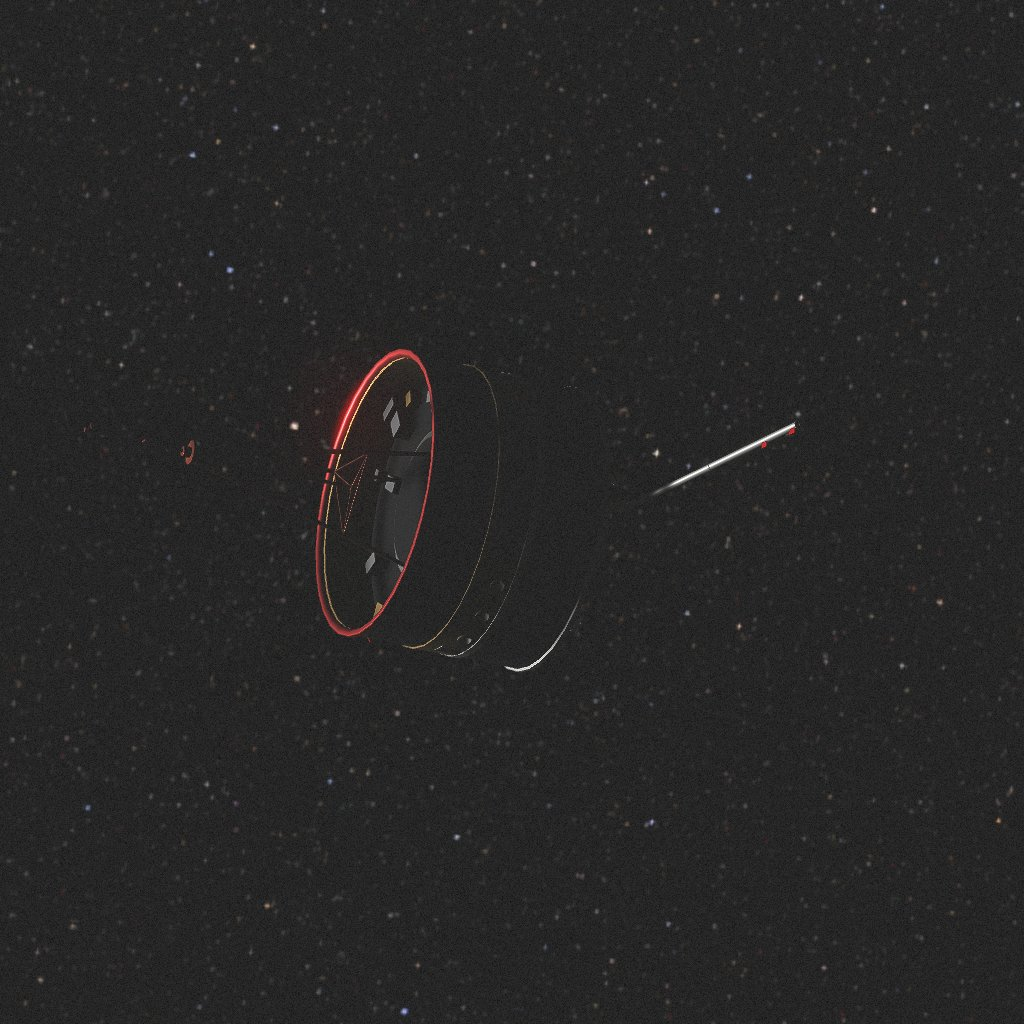double_star: (84, 349, 801, 672)
